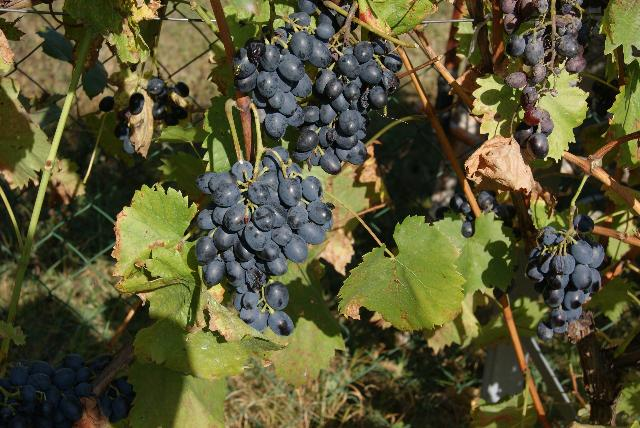grapes: (231, 12, 402, 174), (195, 148, 332, 338), (500, 0, 585, 160), (526, 215, 605, 341), (0, 354, 114, 428), (100, 376, 135, 422)
